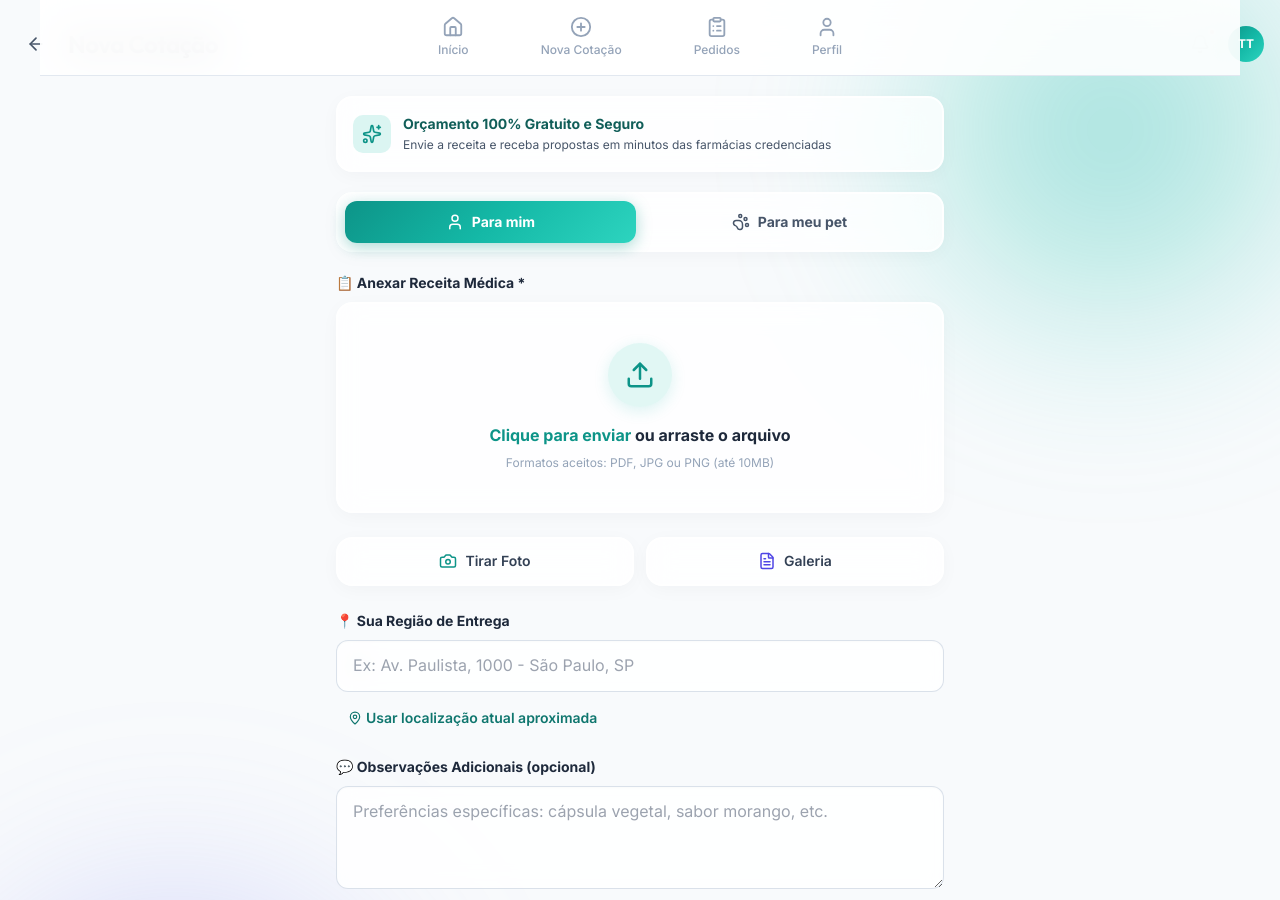
Test case: NewQuote Component (Testing Library) › ao mudar para Para meu pet, exibe seleção de animais, dados do prescritor e aviso regulatório
The image size is (1280, 900).
What coordinates should you click on to do the following:
click the button "Para meu pet"
I would click on:
 (790, 222)
Its box is [644,201,935,243].
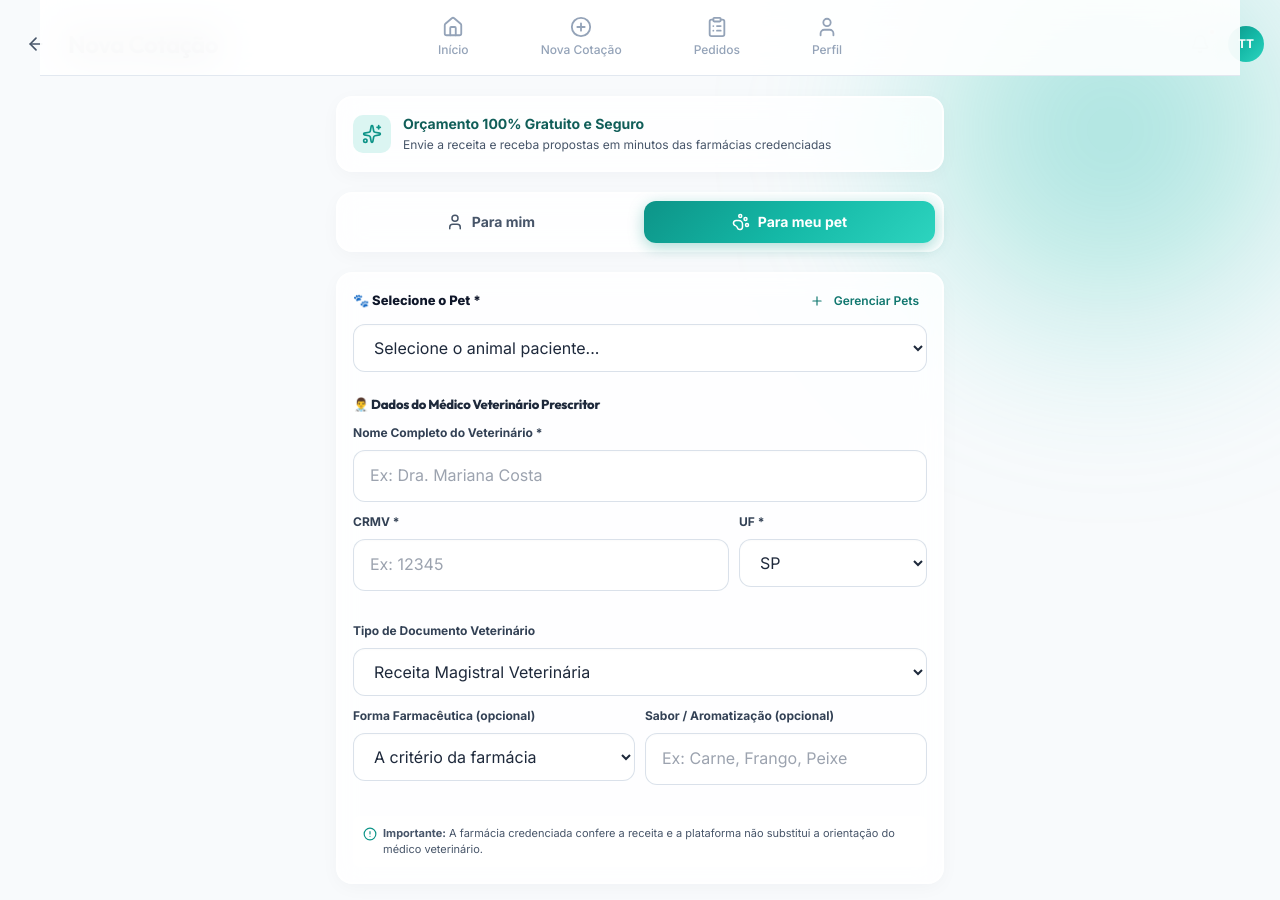
Expected: the text "🐾 Selecione o Pet *" is shown, [353,290,481,311]
Expected: the heading "👨‍⚕️ Dados do Médico Veterinário Prescritor" is shown, [353,396,600,412]
Expected: the field with placeholder "Ex: Dra. Mariana Costa" is shown, [353,450,927,502]
